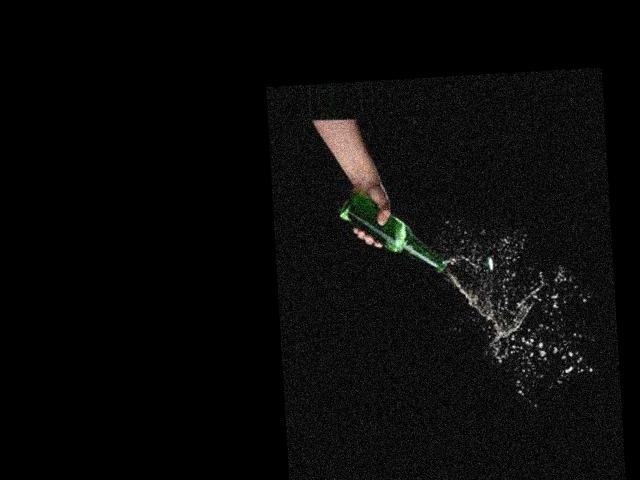beer: (335, 183, 446, 276)
